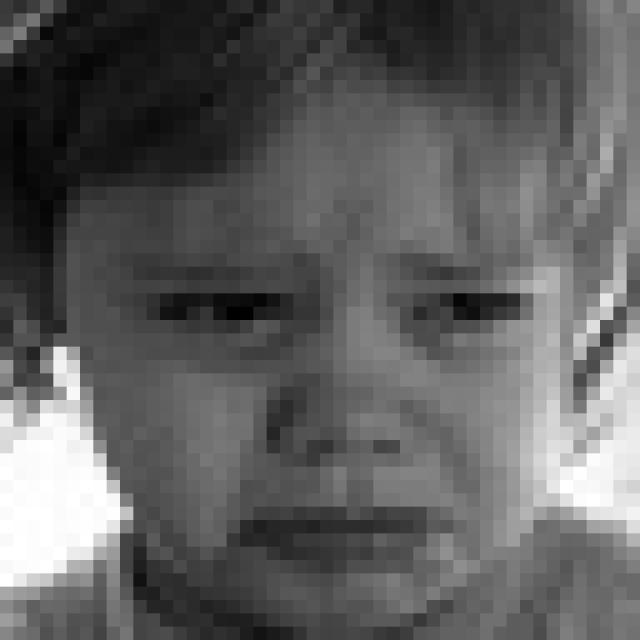sad: (124, 207, 560, 588)
